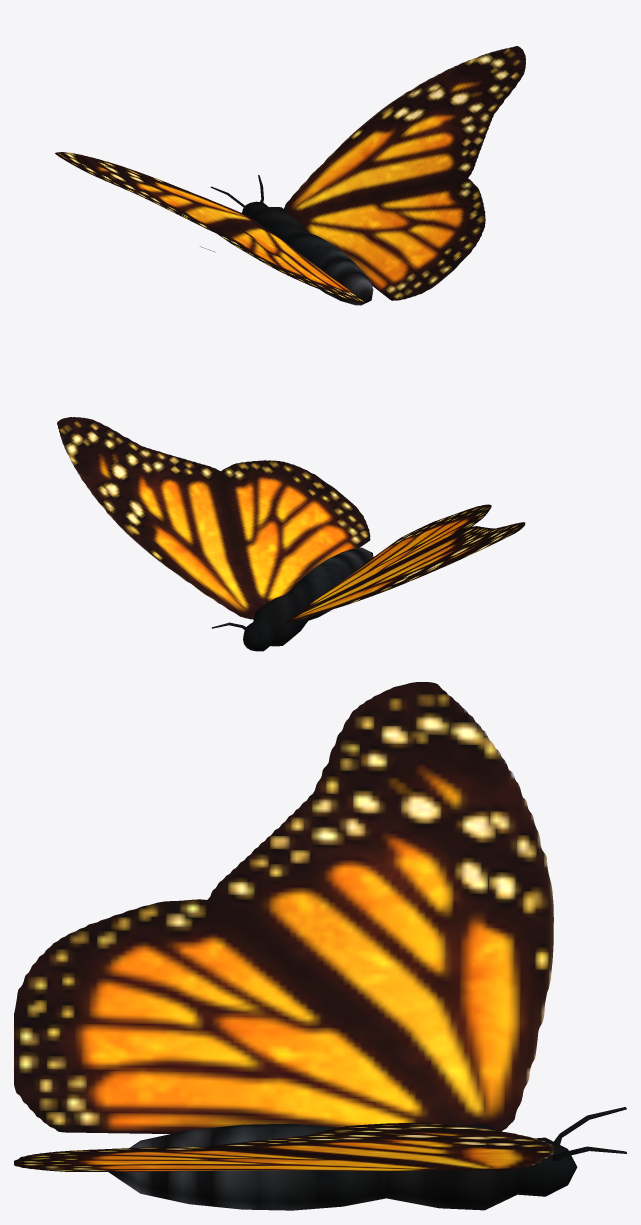
File: Monarch.glb
3 views of the same model, one above another, from view 1: azimuth 30°, elevation 25°; view 2: azimuth 150°, elevation 25°; view 3: azimuth 270°, elevation 25° (orthographic). The views are drawn at different scales.
Parts seen in each view (by area): view 1: Monarch; view 2: Monarch; view 3: Monarch.
Part boxes in pixels (left/top/right/bottom): Monarch: left=55, top=46, right=525, bottom=305; Monarch: left=57, top=417, right=525, bottom=651; Monarch: left=14, top=682, right=626, bottom=1210.
Size of the model in its own units: 0.4955 by 0.1643 by 0.295.
Materials: 1 (1 with a texture image).
